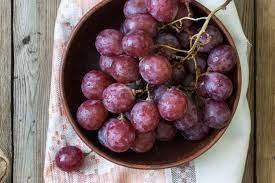Grape Rotten: (76, 0, 237, 154), (55, 146, 84, 172)
